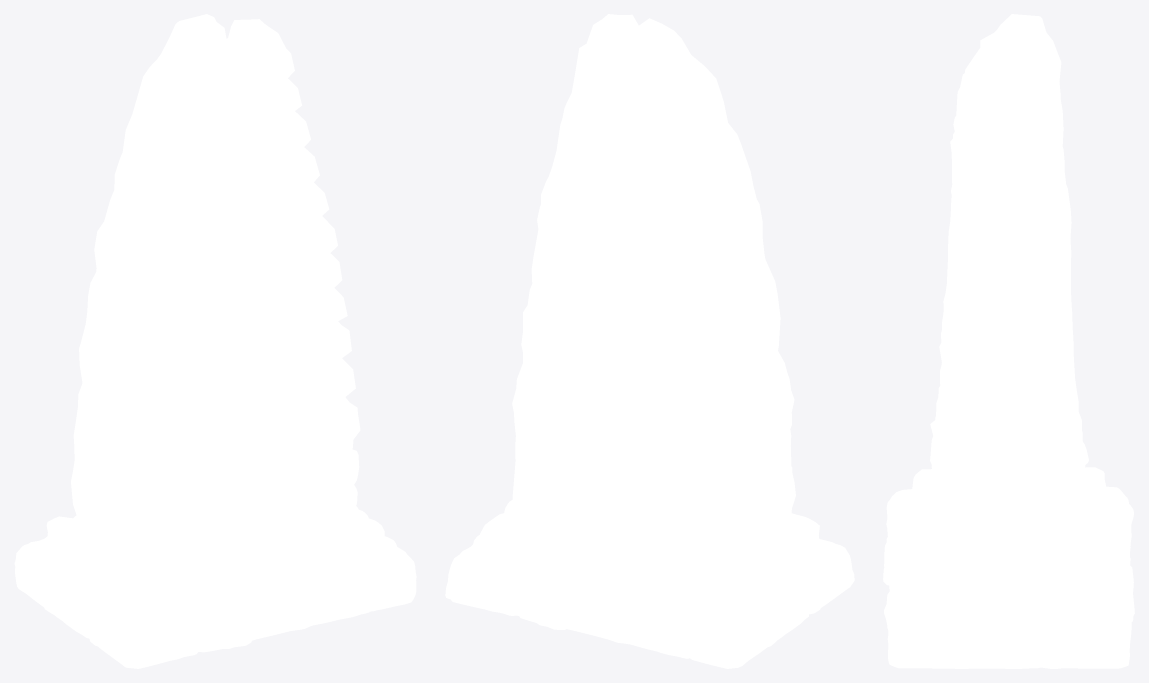
The model's file is ant_tasi.glb.
3 renders of one model, left to right at view 1: azimuth 30°, elevation 25°; view 2: azimuth 150°, elevation 25°; view 3: azimuth 270°, elevation 25°, orthographic.
Visible parts, largest first — view 1: ant_tasi; view 2: ant_tasi; view 3: ant_tasi.
Boxes of the visible parts, <box> form: ant_tasi: <box>14,14,416,668</box>; ant_tasi: <box>445,14,854,668</box>; ant_tasi: <box>883,14,1134,668</box>.
Bounding box in the file's own units: 2.69 × 4.9 × 1.96.
Materials: 1 (1 with a texture image).
